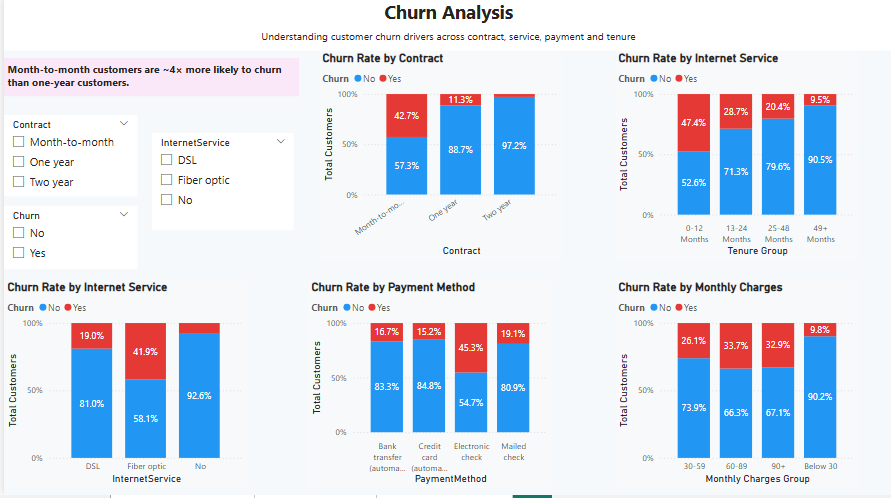

The dashboard page shown, as its layout file describes it:
{"tool":"powerbi","page":{"name":"Churn Analysis","canvas":[1280,720],"ordinal":1},"visuals":[{"type":"hundredPercentStackedColumnChart","title":"Churn Rate by Contract","fields":{"Category":["WA_Fn-UseC_-Telco-Customer-Churn.Contract"],"Y":["WA_Fn-UseC_-Telco-Customer-Churn.Total Customers"],"Series":["WA_Fn-UseC_-Telco-Customer-Churn.Churn"]},"box":[453.6,80.6,350,300],"z":0},{"type":"hundredPercentStackedColumnChart","title":"Churn Rate by Internet Service","fields":{"Category":["WA_Fn-UseC_-Telco-Customer-Churn.Tenure Group"],"Y":["WA_Fn-UseC_-Telco-Customer-Churn.Total Customers"],"Series":["WA_Fn-UseC_-Telco-Customer-Churn.Churn"]},"box":[879.8,80.6,350,300],"z":1000},{"type":"hundredPercentStackedColumnChart","title":"Churn Rate by Payment Method","fields":{"Category":["WA_Fn-UseC_-Telco-Customer-Churn.PaymentMethod"],"Y":["WA_Fn-UseC_-Telco-Customer-Churn.Total Customers"],"Series":["WA_Fn-UseC_-Telco-Customer-Churn.Churn"]},"box":[437.8,410.4,349.9,299.5],"z":2000},{"type":"hundredPercentStackedColumnChart","title":"Churn Rate by Internet Service","fields":{"Category":["WA_Fn-UseC_-Telco-Customer-Churn.InternetService"],"Y":["WA_Fn-UseC_-Telco-Customer-Churn.Total Customers"],"Series":["WA_Fn-UseC_-Telco-Customer-Churn.Churn"]},"box":[0,410.4,349.9,299.5],"z":3000},{"type":"hundredPercentStackedColumnChart","title":"Churn Rate  by Monthly Charges","fields":{"Category":["WA_Fn-UseC_-Telco-Customer-Churn.Monthly Charges Group"],"Y":["WA_Fn-UseC_-Telco-Customer-Churn.Total Customers"],"Series":["WA_Fn-UseC_-Telco-Customer-Churn.Churn"]},"box":[879.8,410.4,349.9,299.5],"z":4000},{"type":"slicer","fields":{"Values":["WA_Fn-UseC_-Telco-Customer-Churn.Contract"]},"box":[0,172.8,191.5,116.6],"z":5000},{"type":"slicer","fields":{"Values":["WA_Fn-UseC_-Telco-Customer-Churn.InternetService"]},"box":[213.1,198.7,204.5,139.7],"z":6000},{"type":"slicer","fields":{"Values":["WA_Fn-UseC_-Telco-Customer-Churn.Churn"]},"box":[0,303.8,191.5,90.7],"z":7000},{"type":"textbox","box":[0,0,1280.2,61.9],"z":8000},{"type":"textbox","box":[0,43.2,1280.2,37.4],"z":8001},{"type":"textbox","box":[0,90.7,424.8,54.7],"z":8002}]}

Visuals, with their boxes in screenshot pixels (x1, y1, x2, y2), scaled from the page's 1280x720 canvas onto the 891x498 screenshot:
"Churn Rate by Contract" hundredPercentStackedColumnChart: detection(316, 56, 559, 263)
"Churn Rate by Internet Service" hundredPercentStackedColumnChart: detection(612, 56, 856, 263)
"Churn Rate by Payment Method" hundredPercentStackedColumnChart: detection(305, 284, 548, 491)
"Churn Rate by Internet Service" hundredPercentStackedColumnChart: detection(0, 284, 244, 491)
"Churn Rate  by Monthly Charges" hundredPercentStackedColumnChart: detection(612, 284, 856, 491)
slicer - WA_Fn-UseC_-Telco-Customer-Churn.Contract: detection(0, 120, 133, 200)
slicer - WA_Fn-UseC_-Telco-Customer-Churn.InternetService: detection(148, 137, 291, 234)
slicer - WA_Fn-UseC_-Telco-Customer-Churn.Churn: detection(0, 210, 133, 273)
textbox: detection(0, 0, 890, 43)
textbox: detection(0, 30, 890, 56)
textbox: detection(0, 63, 296, 101)
